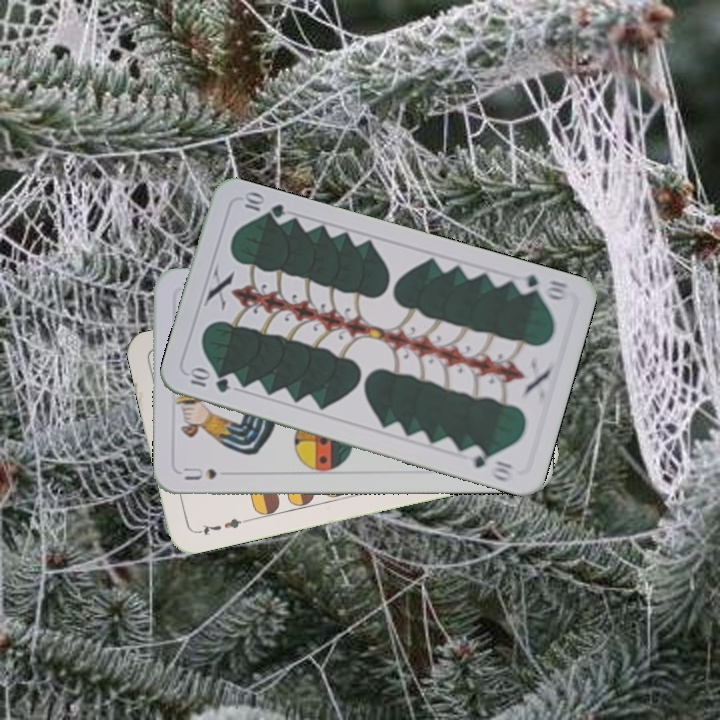E7: (192, 514, 250, 538)
G10: (511, 270, 572, 303), (184, 365, 233, 396)
SU: (180, 463, 219, 483)
